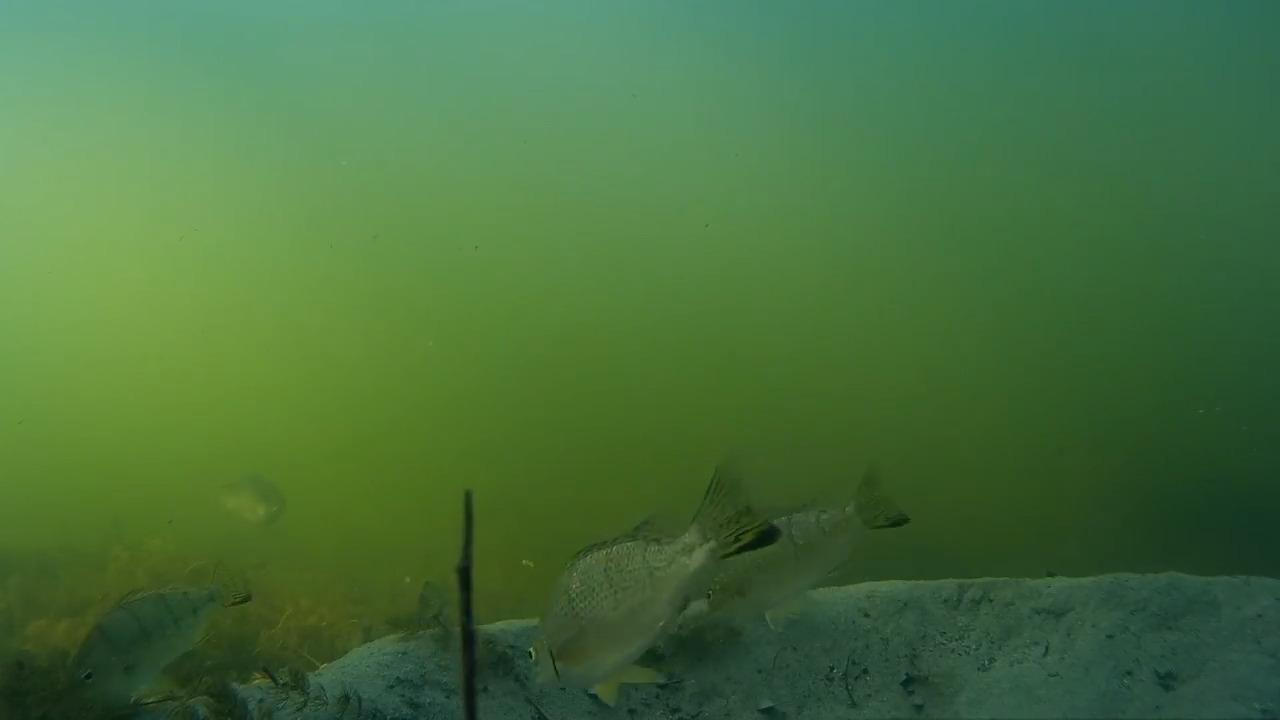Tilapia: (538, 452, 841, 707), (688, 456, 927, 648), (15, 577, 269, 713), (204, 458, 299, 538)
